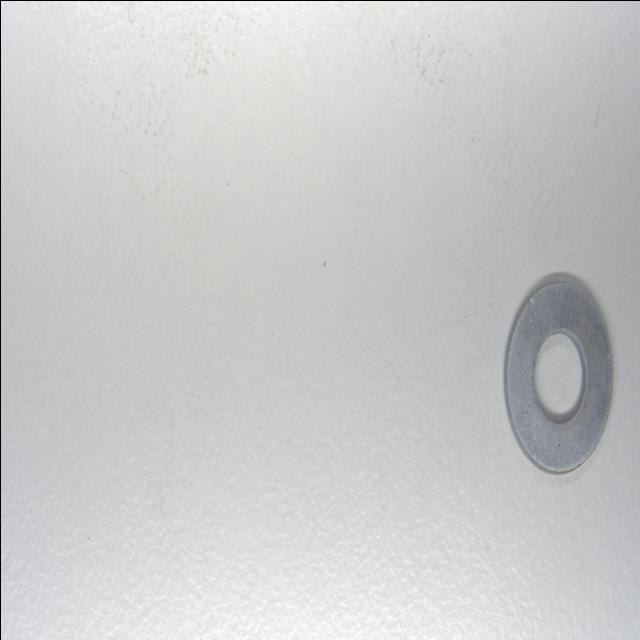washer: (502, 277, 614, 477)
